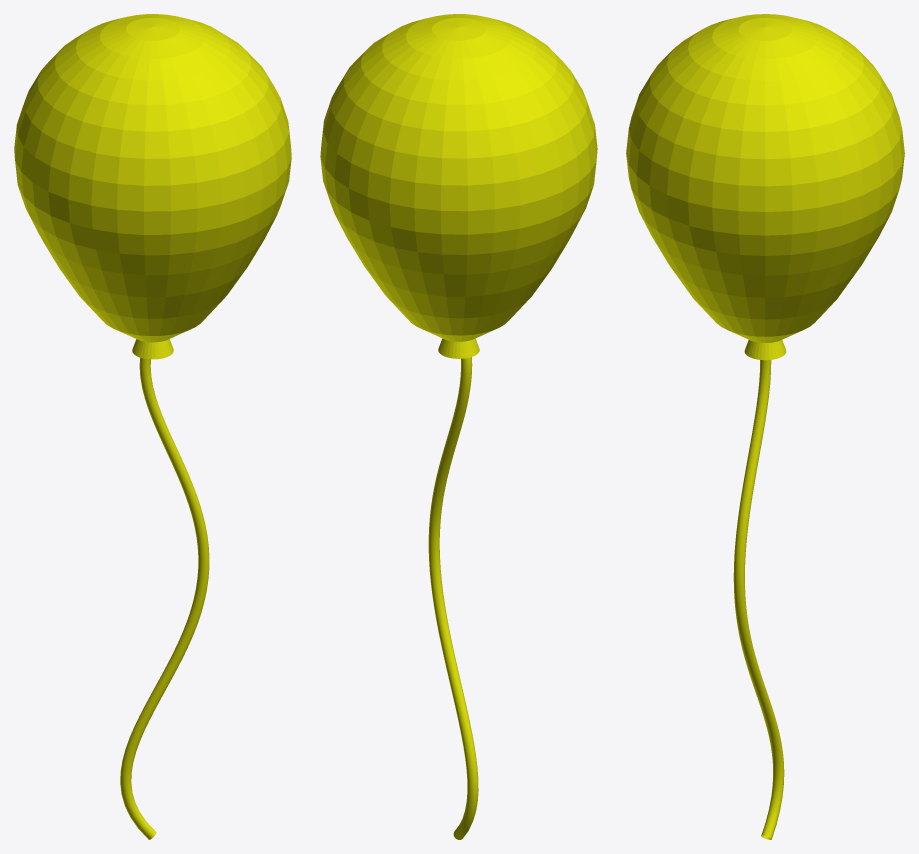
File: BalloonModelYellow.gltf
3 views of the same model, side by side, from view 1: azimuth 30°, elevation 25°; view 2: azimuth 150°, elevation 25°; view 3: azimuth 270°, elevation 25° (orthographic).
Visible parts, largest first — view 1: BalloonObject; view 2: BalloonObject; view 3: BalloonObject.
Part boxes in pixels (x1,y1,x2,y2): BalloonObject: (14,14,291,839); BalloonObject: (320,14,597,839); BalloonObject: (626,14,904,839).
Size of the model in its own units: 2 by 6.45 by 2.
